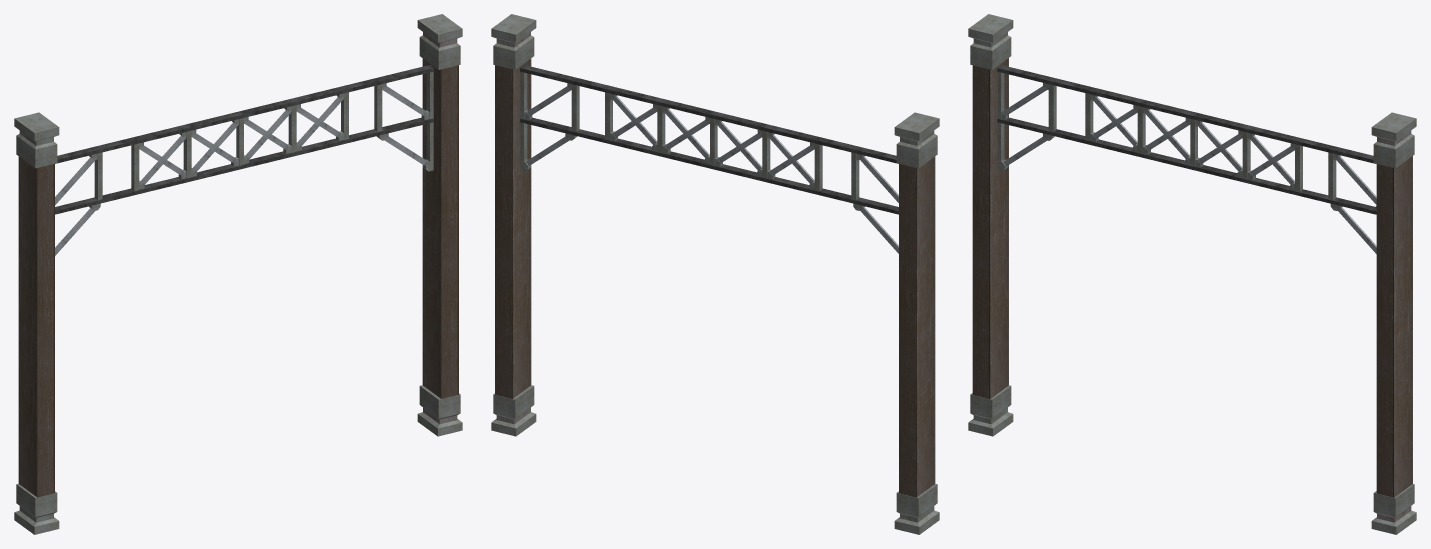
Rendered from Ob_ScafGateway_RC.fbx.
The picture shows the model from 3 angles, left to right: view 1: azimuth 30°, elevation 25°; view 2: azimuth 150°, elevation 25°; view 3: azimuth 330°, elevation 25°; orthographic projection.
Visible parts, largest first — view 1: Ob_ScafGateway_RC; view 2: Ob_ScafGateway_RC; view 3: Ob_ScafGateway_RC.
Boxes of the visible parts, x1,y1,x2,y2 form: Ob_ScafGateway_RC: (14, 14, 462, 534); Ob_ScafGateway_RC: (491, 14, 939, 534); Ob_ScafGateway_RC: (968, 14, 1416, 534).
Bounding box in the file's own units: 1804 × 1618 × 147.
